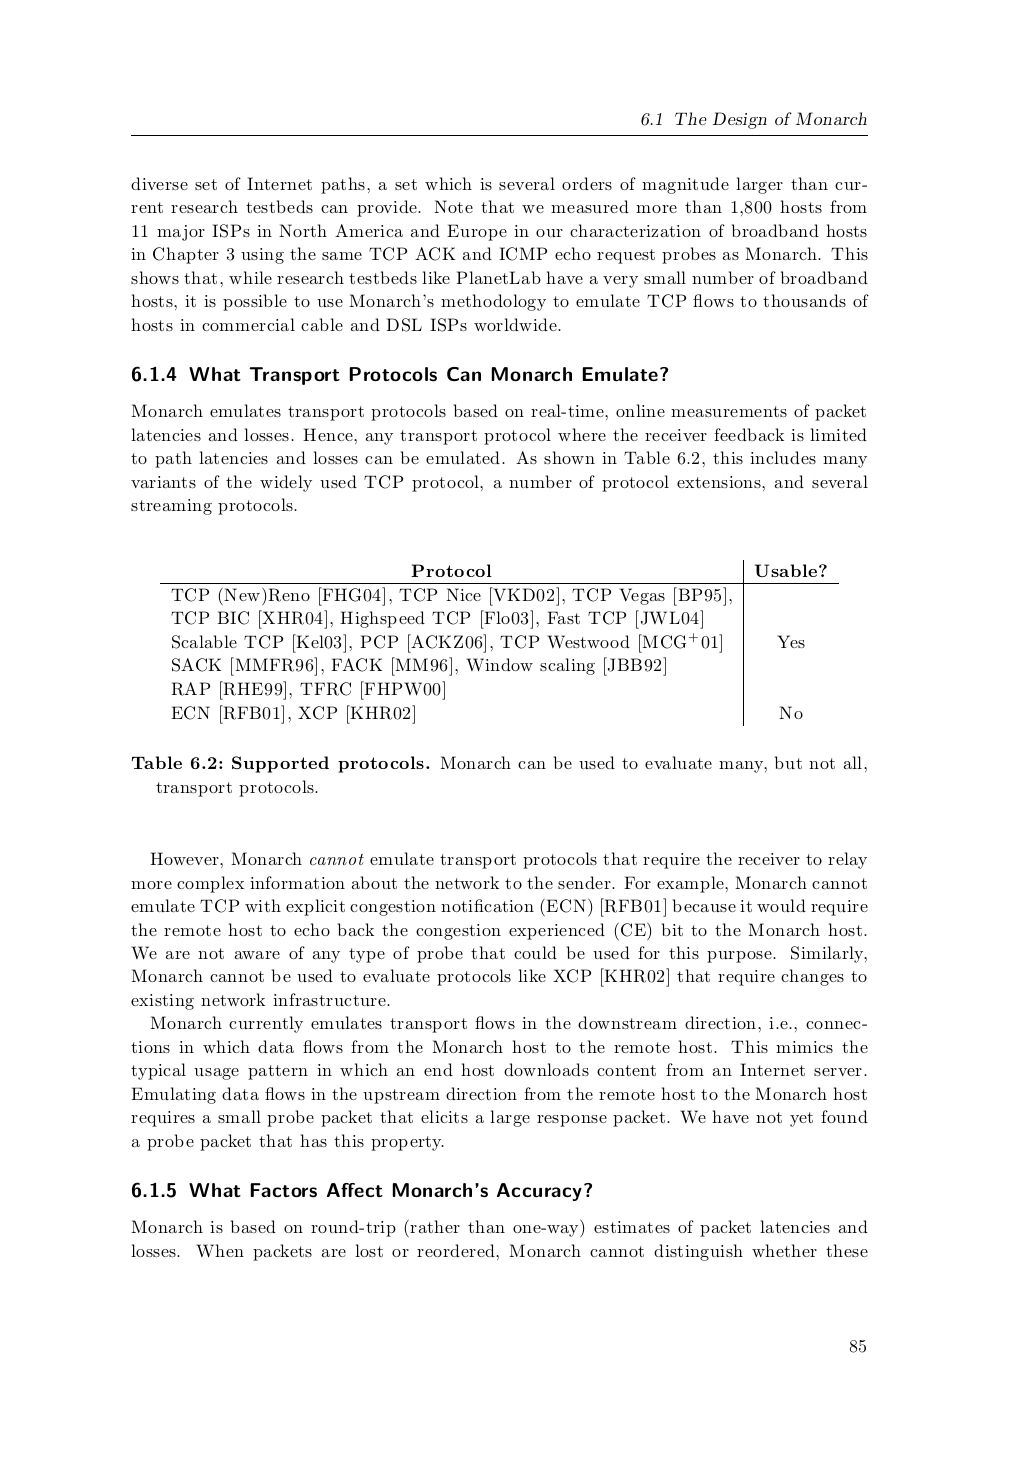Table: (160, 559, 838, 726)
